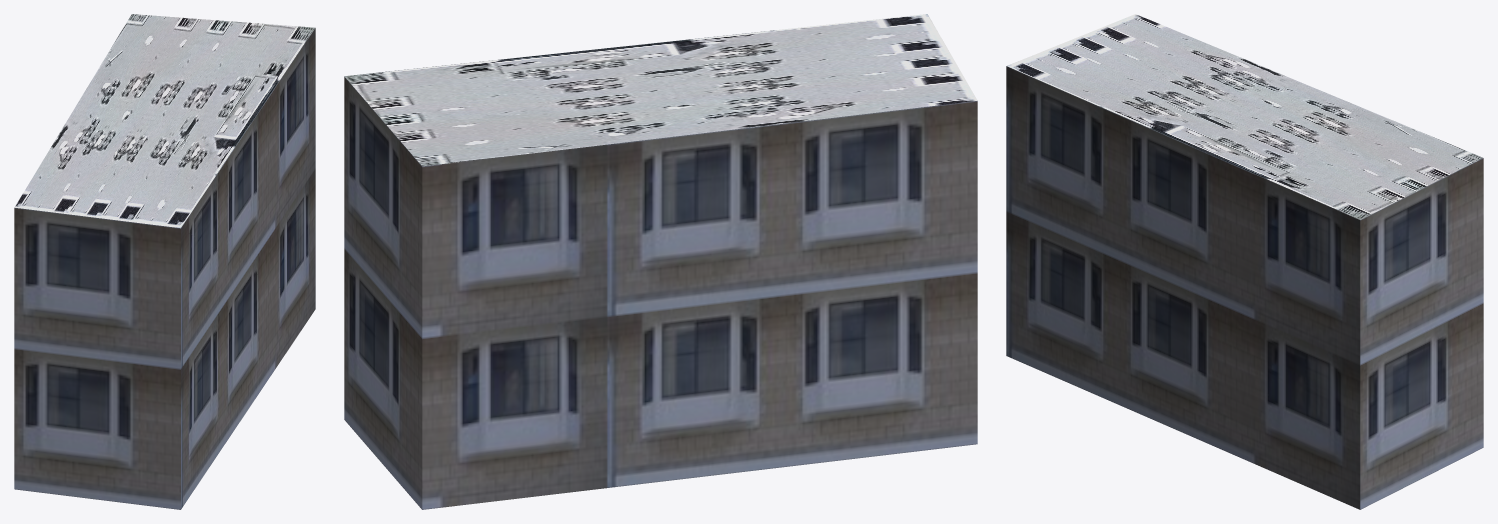
File: ResTex__2307.fbx
3 views of the same model, side by side, from view 1: azimuth 30°, elevation 25°; view 2: azimuth 150°, elevation 25°; view 3: azimuth 270°, elevation 25° (orthographic). The views are drawn at different scales.
Visible parts, largest first — view 1: CityEngineMaterial_3_m, CityEngineMaterial_4_m; view 2: CityEngineMaterial_3_m, CityEngineMaterial_4_m; view 3: CityEngineMaterial_3_m, CityEngineMaterial_4_m.
Boxes of the visible parts, bbox=[...] form: CityEngineMaterial_3_m: bbox=[14, 28, 315, 509]; CityEngineMaterial_4_m: bbox=[14, 14, 314, 228]; CityEngineMaterial_3_m: bbox=[344, 76, 977, 509]; CityEngineMaterial_4_m: bbox=[344, 14, 977, 166]; CityEngineMaterial_3_m: bbox=[1006, 66, 1483, 509]; CityEngineMaterial_4_m: bbox=[1007, 14, 1482, 219].
Size of the model in its own units: 9.15 by 6 by 8.95.
Materials: 2 (2 with a texture image).
